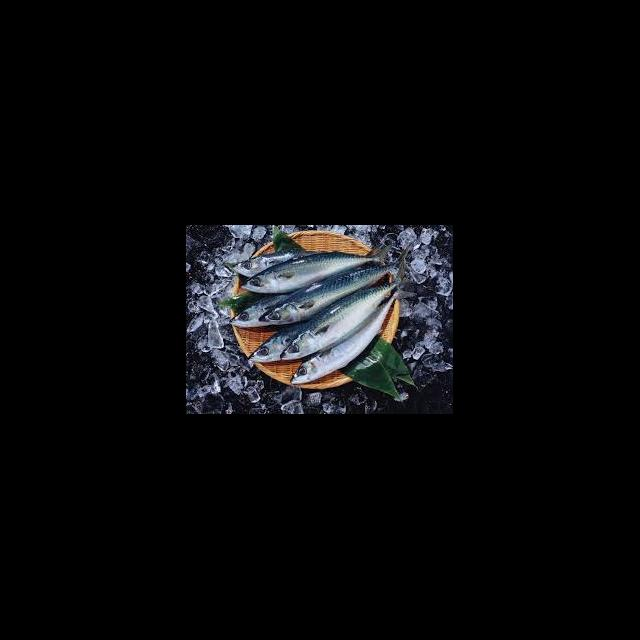fish: (282, 262, 416, 361), (244, 254, 378, 294)
